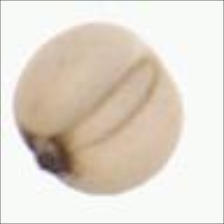L5: (60, 57, 159, 154), (17, 124, 78, 187)
L6: (12, 19, 185, 202)
